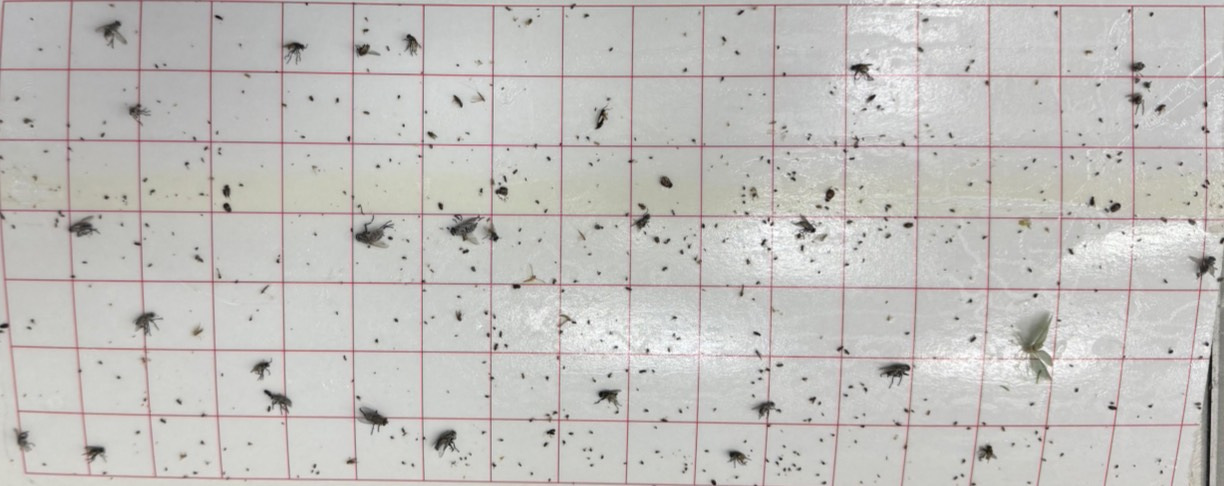fly: (356, 214, 397, 250), (94, 19, 129, 52), (447, 213, 482, 245), (877, 360, 911, 389), (357, 405, 389, 435), (67, 212, 103, 238), (133, 308, 164, 338), (594, 387, 624, 415), (1188, 252, 1219, 279), (282, 40, 310, 67), (433, 429, 461, 456), (791, 213, 817, 241), (13, 425, 36, 454), (751, 400, 782, 421), (81, 442, 109, 465), (250, 357, 275, 382), (128, 103, 153, 127), (272, 389, 294, 416), (727, 448, 754, 470), (401, 33, 424, 57), (849, 61, 875, 82), (976, 441, 999, 463), (1125, 92, 1147, 114), (632, 210, 654, 231), (354, 42, 381, 59), (481, 224, 502, 244), (345, 456, 358, 466)
test: (1011, 308, 1055, 384), (594, 102, 612, 133), (521, 262, 545, 285), (557, 311, 578, 327), (471, 89, 488, 106), (823, 187, 837, 204), (659, 175, 674, 190), (576, 228, 590, 244), (1107, 201, 1124, 214), (190, 323, 205, 337), (1154, 103, 1169, 117), (452, 93, 465, 109), (749, 185, 761, 201), (494, 186, 508, 199), (864, 91, 878, 103), (1130, 60, 1145, 71), (1142, 79, 1155, 91), (851, 134, 860, 150), (221, 184, 231, 198), (680, 461, 690, 475), (738, 282, 746, 299), (356, 203, 366, 216), (754, 349, 764, 362), (999, 383, 1012, 393), (260, 284, 271, 295), (636, 200, 647, 211), (693, 255, 704, 266), (223, 202, 233, 214), (454, 310, 464, 322), (903, 220, 915, 230), (1088, 194, 1097, 207), (427, 130, 438, 140), (750, 3, 760, 14), (545, 411, 553, 424), (194, 254, 204, 264), (758, 236, 768, 246), (652, 235, 661, 246), (663, 235, 672, 246), (967, 334, 978, 343), (1186, 217, 1197, 226), (636, 367, 648, 375), (437, 201, 446, 211), (627, 157, 636, 167), (660, 264, 670, 273), (807, 395, 817, 404), (814, 201, 823, 211), (917, 45, 926, 55), (1084, 48, 1094, 57), (546, 428, 557, 436), (594, 223, 605, 231), (806, 131, 814, 142), (884, 203, 892, 214), (215, 268, 222, 280), (843, 347, 852, 356), (178, 452, 188, 460), (502, 173, 510, 183), (525, 18, 535, 26), (752, 330, 762, 338), (568, 2, 578, 10), (921, 16, 931, 24), (791, 449, 801, 457), (1159, 216, 1169, 224), (175, 397, 183, 406), (58, 209, 66, 218), (264, 389, 273, 397), (399, 427, 408, 435), (836, 344, 845, 352), (769, 118, 778, 126), (504, 5, 513, 13), (963, 64, 971, 73), (1067, 246, 1075, 255), (893, 420, 902, 428), (924, 408, 932, 417), (965, 297, 974, 305), (953, 315, 962, 323), (1204, 178, 1213, 186), (214, 14, 224, 21), (23, 117, 33, 124), (217, 146, 224, 156), (512, 283, 522, 290), (493, 342, 500, 352), (520, 371, 527, 381), (582, 12, 592, 19), (774, 362, 785, 368), (511, 168, 519, 176), (670, 314, 678, 322), (823, 204, 831, 212), (860, 105, 868, 113), (736, 8, 744, 16), (734, 49, 742, 57), (1044, 225, 1052, 233), (1105, 152, 1113, 160), (1201, 183, 1209, 191), (361, 27, 370, 34), (462, 247, 471, 254), (670, 208, 677, 217), (719, 75, 726, 84), (970, 57, 977, 66), (947, 131, 954, 140), (709, 479, 718, 486), (1000, 424, 1007, 433), (1193, 400, 1202, 407), (1193, 189, 1200, 198), (1108, 404, 1118, 410), (244, 72, 252, 79), (149, 188, 157, 195), (238, 182, 246, 189), (341, 354, 348, 362), (392, 317, 400, 324), (159, 417, 167, 424), (199, 439, 207, 446), (542, 440, 549, 448), (551, 277, 558, 285), (592, 105, 599, 113), (666, 346, 673, 354), (758, 155, 766, 162), (745, 257, 752, 265), (765, 246, 773, 253), (799, 243, 806, 251), (558, 329, 566, 336), (875, 104, 883, 111), (607, 45, 615, 52), (720, 35, 727, 43), (846, 219, 854, 226), (861, 231, 868, 239), (843, 261, 851, 268), (984, 78, 991, 86), (964, 425, 972, 432), (1203, 340, 1210, 348), (54, 217, 59, 228), (108, 2, 117, 8), (133, 241, 142, 247), (0, 323, 9, 329), (1134, 122, 1140, 131), (1219, 236, 1224, 246), (37, 46, 44, 53), (308, 95, 315, 102), (142, 176, 149, 183), (146, 262, 153, 269), (184, 161, 191, 168), (144, 222, 151, 229), (275, 257, 282, 264), (32, 175, 39, 182), (265, 405, 272, 412), (140, 356, 147, 363), (478, 186, 485, 193), (482, 309, 489, 316), (208, 176, 215, 183), (561, 439, 568, 446), (772, 255, 779, 262), (585, 318, 592, 325), (772, 187, 779, 194), (740, 192, 747, 199), (791, 169, 798, 176), (790, 175, 797, 182), (781, 124, 788, 131), (682, 66, 689, 73), (884, 232, 891, 239), (877, 226, 884, 233), (832, 140, 839, 147), (900, 140, 907, 147), (924, 122, 931, 129), (967, 181, 974, 188), (981, 234, 988, 241), (1032, 292, 1039, 299), (1026, 266, 1033, 273), (819, 437, 826, 444), (701, 468, 708, 475), (820, 459, 827, 466), (902, 407, 909, 414), (902, 444, 909, 451), (904, 330, 911, 337), (1095, 81, 1102, 88), (1097, 116, 1104, 123), (1116, 150, 1123, 157), (1069, 154, 1076, 161), (1096, 223, 1103, 230), (1108, 198, 1115, 205), (1103, 206, 1110, 213), (1029, 400, 1036, 407), (1033, 429, 1040, 436), (960, 472, 967, 479), (892, 435, 899, 442), (1178, 160, 1185, 167), (1075, 233, 1082, 240), (879, 132, 886, 139), (153, 63, 161, 69), (335, 96, 341, 104), (385, 44, 391, 52), (199, 412, 207, 418), (29, 318, 37, 324), (246, 441, 254, 447), (471, 265, 477, 273), (534, 199, 542, 205), (311, 163, 317, 171), (480, 429, 488, 435), (567, 431, 575, 437), (607, 371, 613, 379), (591, 376, 597, 384), (660, 417, 668, 423), (712, 406, 718, 414), (843, 146, 849, 154), (534, 6, 542, 12), (883, 215, 889, 223), (932, 150, 938, 158), (807, 416, 813, 424), (922, 397, 930, 403), (953, 420, 959, 428), (981, 420, 987, 428), (886, 314, 892, 322), (1034, 78, 1040, 86), (1054, 9, 1060, 17), (1149, 10, 1155, 18), (1116, 158, 1124, 164), (1074, 386, 1080, 394), (1162, 278, 1170, 284), (1185, 201, 1193, 207), (346, 135, 352, 142), (396, 93, 402, 100), (364, 15, 370, 22), (66, 146, 73, 152), (103, 193, 109, 200), (203, 145, 209, 152), (119, 222, 126, 228), (423, 109, 430, 115), (373, 337, 380, 343), (334, 310, 340, 317), (163, 466, 170, 472), (97, 359, 104, 365), (116, 374, 122, 381), (26, 325, 33, 331), (248, 315, 254, 322), (135, 430, 142, 436), (181, 473, 188, 479), (355, 395, 362, 401), (156, 98, 162, 105), (428, 143, 434, 150), (532, 143, 539, 149), (545, 156, 552, 162), (305, 153, 312, 159), (350, 194, 356, 201), (485, 331, 491, 338), (497, 331, 504, 337), (498, 437, 505, 443), (517, 461, 523, 468), (552, 410, 559, 416), (547, 476, 553, 483), (613, 344, 620, 350), (650, 368, 657, 374), (485, 216, 491, 223), (625, 286, 632, 292), (605, 95, 611, 102), (585, 134, 591, 141), (587, 160, 593, 167), (720, 238, 727, 244), (755, 278, 761, 285), (758, 368, 765, 374), (749, 379, 756, 385), (801, 376, 808, 382), (817, 399, 823, 406), (691, 137, 697, 144), (828, 89, 834, 96), (747, 91, 754, 97), (781, 71, 787, 78), (726, 120, 732, 127), (593, 140, 599, 147), (761, 219, 768, 225), (857, 239, 864, 245), (745, 172, 751, 179), (949, 207, 956, 213), (1023, 165, 1029, 172), (848, 383, 854, 390), (859, 423, 865, 430), (820, 411, 826, 418), (733, 474, 740, 480), (821, 480, 828, 486), (774, 460, 781, 466), (781, 466, 787, 473), (585, 318, 592, 324), (1126, 8, 1133, 14), (1198, 354, 1204, 361), (1114, 463, 1120, 470), (961, 458, 967, 465), (1059, 451, 1065, 458), (1040, 457, 1047, 463), (968, 274, 974, 281), (883, 299, 890, 305), (1056, 280, 1062, 287), (1056, 316, 1062, 323), (1026, 479, 1032, 486), (1203, 101, 1210, 107), (1120, 230, 1127, 236), (1136, 237, 1143, 243), (1041, 197, 1048, 203), (555, 355, 561, 362), (463, 462, 471, 467), (742, 184, 747, 192), (848, 156, 856, 161), (703, 448, 711, 453), (624, 275, 629, 283), (237, 42, 243, 48), (100, 132, 106, 138), (79, 136, 85, 142), (200, 157, 206, 163), (192, 136, 198, 142), (206, 119, 212, 125), (215, 130, 221, 136), (365, 67, 371, 73), (401, 122, 407, 128), (41, 461, 47, 467), (456, 137, 462, 143), (349, 227, 355, 233), (405, 238, 411, 244), (456, 293, 462, 299), (423, 320, 429, 326), (338, 280, 344, 286), (489, 375, 495, 381), (503, 342, 509, 348), (544, 375, 550, 381), (491, 462, 497, 468), (451, 460, 457, 466), (499, 455, 505, 461), (588, 429, 594, 435), (599, 454, 605, 460), (624, 367, 630, 373), (643, 408, 649, 414), (654, 449, 660, 455), (573, 278, 579, 284), (587, 251, 593, 257), (624, 211, 630, 217), (574, 134, 580, 140), (713, 222, 719, 228), (682, 235, 688, 241), (809, 257, 815, 263), (858, 184, 864, 190), (632, 136, 638, 142), (648, 154, 654, 160), (766, 216, 772, 222), (883, 224, 889, 230), (987, 179, 993, 185), (816, 269, 822, 275), (608, 330, 614, 336), (843, 392, 849, 398), (860, 381, 866, 387), (853, 438, 859, 444), (815, 471, 821, 477), (778, 455, 784, 461), (909, 408, 915, 414), (1113, 45, 1119, 51), (1077, 132, 1083, 138), (1081, 142, 1087, 148), (1094, 170, 1100, 176), (1167, 348, 1173, 354), (1109, 400, 1115, 406), (1093, 288, 1099, 294), (876, 473, 882, 479), (1114, 473, 1120, 479), (1156, 165, 1162, 171), (1066, 210, 1072, 216), (1032, 128, 1038, 134), (1146, 192, 1152, 198), (29, 16, 34, 23), (281, 102, 288, 107), (363, 110, 370, 115), (241, 88, 246, 95), (81, 260, 88, 265), (0, 213, 5, 220), (205, 460, 210, 467), (400, 255, 407, 260), (544, 208, 549, 215), (421, 288, 428, 293), (342, 190, 347, 197), (98, 213, 103, 220), (565, 413, 570, 420), (678, 408, 683, 415), (671, 331, 676, 338), (766, 158, 771, 165), (764, 367, 771, 372), (756, 376, 763, 381), (751, 392, 756, 399), (697, 10, 702, 17), (861, 257, 866, 264), (522, 177, 529, 182), (1032, 156, 1037, 163), (863, 387, 870, 392), (765, 457, 770, 464), (786, 468, 793, 473), (1148, 402, 1153, 409), (1068, 363, 1075, 368), (1036, 437, 1043, 442), (957, 223, 962, 230), (1159, 469, 1164, 476), (1199, 125, 1206, 130), (1141, 160, 1146, 167), (1098, 264, 1103, 271), (1017, 229, 1024, 234), (15, 96, 20, 102), (30, 123, 35, 129), (162, 62, 168, 67), (66, 123, 71, 129), (43, 149, 49, 154), (102, 120, 107, 126), (194, 245, 199, 251), (376, 163, 381, 169), (455, 62, 460, 68), (70, 274, 76, 279), (171, 230, 176, 236), (219, 372, 224, 378), (313, 463, 318, 469), (87, 284, 93, 289), (108, 302, 114, 307), (142, 396, 148, 401), (220, 471, 226, 476), (313, 232, 318, 238), (351, 378, 356, 384), (390, 434, 395, 440), (422, 435, 427, 441), (410, 462, 415, 468), (388, 236, 394, 241), (122, 87, 128, 92), (300, 134, 306, 139), (465, 131, 471, 136), (388, 157, 393, 163), (517, 227, 523, 232), (517, 240, 522, 246), (421, 279, 427, 284), (493, 314, 498, 320), (174, 192, 179, 198), (199, 212, 205, 217), (274, 69, 279, 75), (297, 213, 303, 218), (491, 325, 496, 331), (562, 365, 567, 371), (320, 211, 325, 217), (416, 214, 422, 219), (429, 269, 435, 274), (529, 471, 534, 477), (582, 447, 588, 452), (589, 463, 595, 468), (646, 348, 651, 354), (639, 460, 645, 465), (596, 270, 601, 276), (676, 336, 681, 342), (652, 425, 658, 430), (700, 223, 706, 228), (686, 243, 692, 248), (744, 210, 749, 216), (506, 147, 511, 153), (742, 199, 747, 205), (762, 91, 767, 97), (776, 44, 781, 50), (682, 32, 688, 37), (536, 14, 542, 19), (769, 221, 775, 226), (786, 151, 792, 156), (598, 338, 604, 343), (830, 432, 836, 437), (742, 439, 748, 444), (781, 444, 787, 449), (792, 462, 797, 468), (796, 466, 802, 471), (718, 154, 724, 159), (733, 208, 738, 214), (614, 223, 619, 229), (1011, 441, 1016, 447), (966, 220, 972, 225), (944, 239, 950, 244), (912, 215, 918, 220), (970, 481, 976, 486), (858, 480, 864, 485), (1049, 439, 1054, 445), (1204, 129, 1210, 134), (1040, 189, 1045, 195), (1066, 68, 1072, 73), (1038, 101, 1044, 106), (1218, 204, 1224, 209), (1083, 243, 1088, 249), (1022, 256, 1028, 261), (315, 471, 322, 475), (1195, 406, 1202, 410), (304, 1, 309, 6), (11, 224, 16, 229), (0, 155, 5, 160), (122, 194, 127, 199), (77, 369, 82, 374), (255, 307, 260, 312), (280, 421, 285, 426), (245, 467, 250, 472), (310, 469, 315, 474), (121, 255, 126, 260), (102, 470, 107, 475), (225, 475, 230, 480), (306, 261, 311, 266), (401, 460, 406, 465), (417, 154, 422, 159), (497, 181, 502, 186), (430, 315, 435, 320), (454, 333, 459, 338), (372, 370, 377, 375), (529, 417, 534, 422), (468, 452, 473, 457), (463, 456, 468, 461), (458, 456, 463, 461), (446, 389, 451, 394), (679, 249, 684, 254), (776, 165, 781, 170), (853, 246, 858, 251), (862, 412, 867, 417), (854, 415, 859, 420), (766, 423, 771, 428), (489, 82, 494, 87), (500, 86, 505, 91), (596, 158, 601, 163), (1045, 426, 1050, 431), (954, 475, 959, 480), (949, 238, 954, 243), (1157, 458, 1162, 463), (884, 455, 889, 460), (1136, 414, 1141, 419), (198, 192, 204, 196), (234, 279, 238, 285), (192, 471, 198, 475), (538, 237, 542, 243), (481, 359, 485, 365), (484, 394, 490, 398), (622, 461, 628, 465), (223, 447, 227, 452), (415, 436, 419, 441), (397, 132, 401, 137), (355, 261, 360, 265), (586, 456, 591, 460), (636, 386, 640, 391), (561, 288, 565, 293), (751, 297, 756, 301), (589, 448, 593, 452), (1133, 463, 1136, 468)
